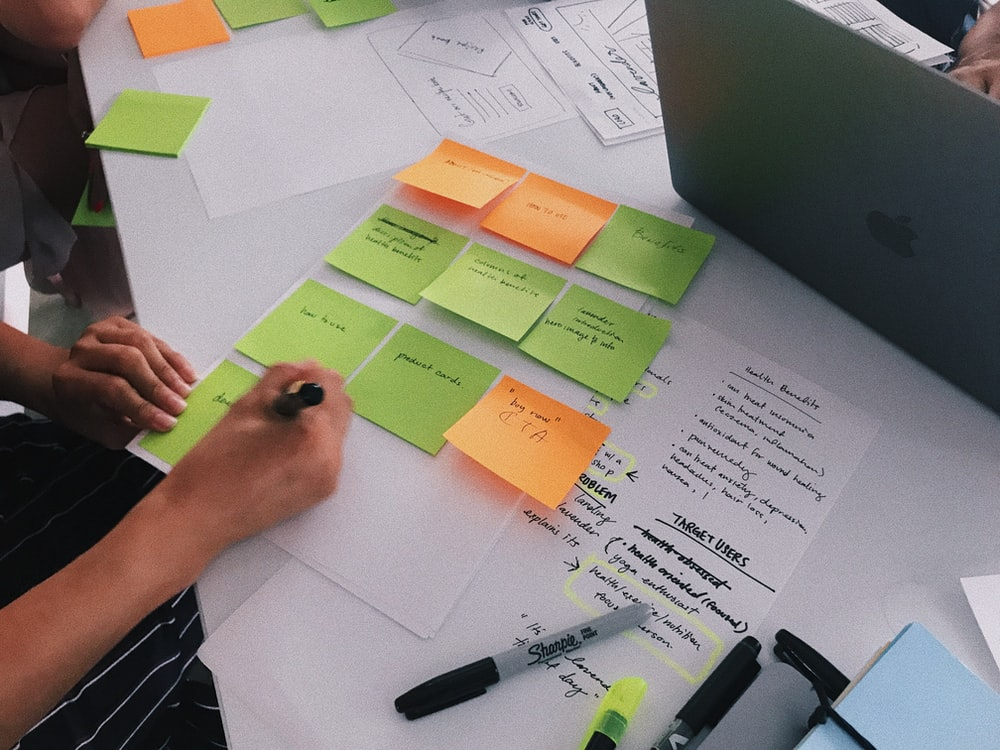Note: (444, 380, 601, 510), (353, 322, 497, 452), (143, 362, 292, 480), (239, 278, 395, 386), (521, 288, 667, 402), (580, 205, 715, 306), (326, 204, 469, 299), (423, 245, 565, 338), (482, 177, 617, 262), (393, 138, 525, 206)
